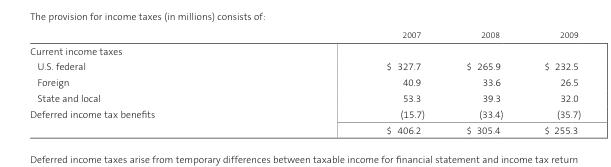table: (29, 29, 580, 135)
table column: (29, 29, 269, 135), (269, 29, 444, 135), (444, 29, 522, 135), (522, 29, 580, 135)
table column header: (29, 29, 580, 42)
table projected row header: (29, 42, 580, 58)
table row: (29, 42, 580, 58), (29, 58, 580, 74), (29, 74, 580, 90), (29, 90, 580, 106), (29, 106, 580, 122), (29, 29, 580, 42), (29, 122, 580, 135)
